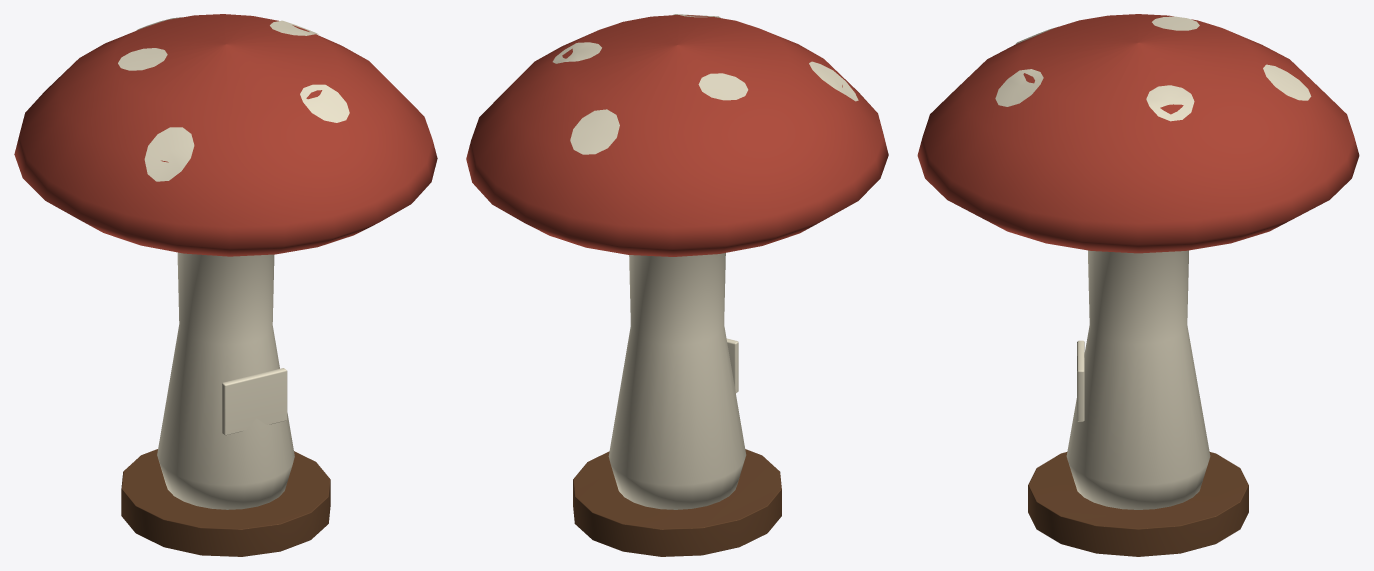
The model's file is S070_giant_mushroom_rebuilt.glb.
The picture shows the model from 3 angles, left to right: view 1: azimuth 30°, elevation 25°; view 2: azimuth 150°, elevation 25°; view 3: azimuth 270°, elevation 25°; orthographic projection.
Parts seen in each view (by area): view 1: Mushroom_lacquer_red, Warm_ivory.001, Oak_end_and_edge.001; view 2: Mushroom_lacquer_red, Warm_ivory.001, Oak_end_and_edge.001; view 3: Mushroom_lacquer_red, Warm_ivory.001, Oak_end_and_edge.001.
Part boxes in pixels (left/top/right/bottom): Mushroom_lacquer_red: left=14, top=14, right=437, bottom=256; Warm_ivory.001: left=118, top=17, right=349, bottom=509; Oak_end_and_edge.001: left=121, top=449, right=330, bottom=556; Mushroom_lacquer_red: left=466, top=15, right=888, bottom=256; Warm_ivory.001: left=552, top=14, right=858, bottom=509; Oak_end_and_edge.001: left=573, top=449, right=781, bottom=556; Mushroom_lacquer_red: left=917, top=14, right=1359, bottom=253; Warm_ivory.001: left=995, top=16, right=1311, bottom=509; Oak_end_and_edge.001: left=1028, top=452, right=1248, bottom=556.
Bounding box in the file's own units: 1.73 × 2.14 × 1.82.
